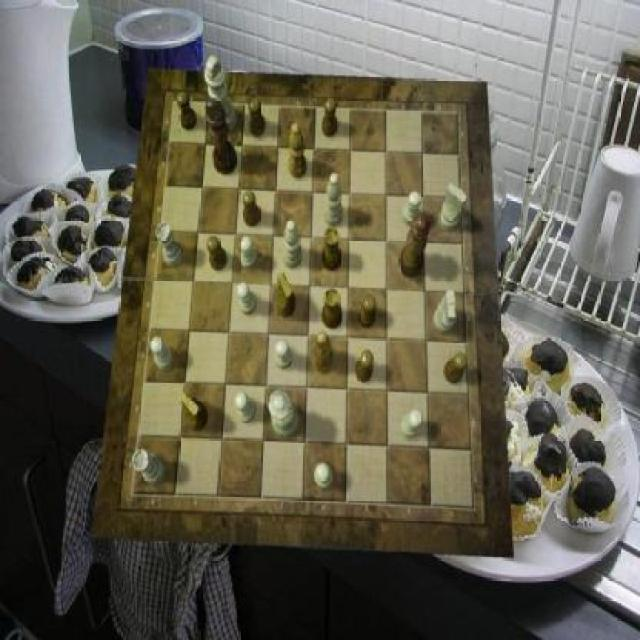bishop: (288, 123, 307, 179), (314, 331, 334, 373)
black-bishop: (205, 97, 238, 175)
black-king: (180, 392, 208, 432), (277, 272, 297, 318)
black-knight: (177, 92, 197, 131), (444, 354, 468, 384), (208, 235, 228, 270), (248, 98, 265, 137), (243, 191, 261, 227), (322, 98, 338, 138), (355, 349, 373, 383), (359, 296, 376, 330)
black-pawn: (400, 212, 432, 278)
black-queen: (323, 228, 343, 272), (322, 289, 342, 329)
black-rook: (324, 172, 344, 227), (283, 220, 302, 269)
white-bishop: (205, 55, 238, 133)
white-king: (440, 183, 468, 231), (434, 291, 457, 333)
white-knight: (151, 337, 174, 371), (235, 392, 258, 423), (237, 282, 257, 316), (403, 191, 423, 225), (400, 411, 423, 438), (240, 237, 258, 271), (274, 342, 293, 369), (314, 463, 333, 489)
white-pawn: (269, 391, 300, 438)
white-queen: (156, 221, 182, 267), (134, 449, 166, 484)
